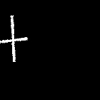single_crochet: (0, 16, 26, 61)
